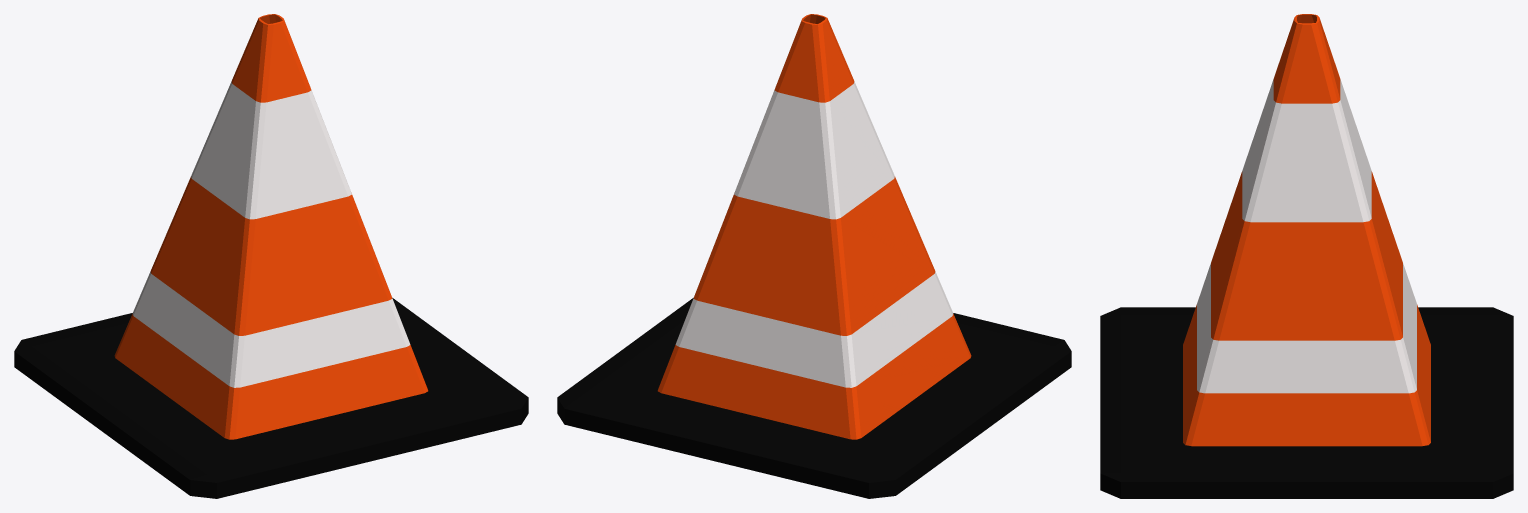
File: construction_cone.fbx
The picture shows the model from 3 angles, left to right: view 1: azimuth 30°, elevation 25°; view 2: azimuth 150°, elevation 25°; view 3: azimuth 270°, elevation 25°; orthographic projection. The views are drawn at different scales.
Parts seen in each view (by area): view 1: Cube; view 2: Cube; view 3: Cube.
Part boxes in pixels (<box>): Cube: <box>14,14,528,498</box>; Cube: <box>557,14,1071,498</box>; Cube: <box>1100,14,1513,498</box>.
Bounding box in the file's own units: 200 × 210 × 200.
1 material, 1 textured.
